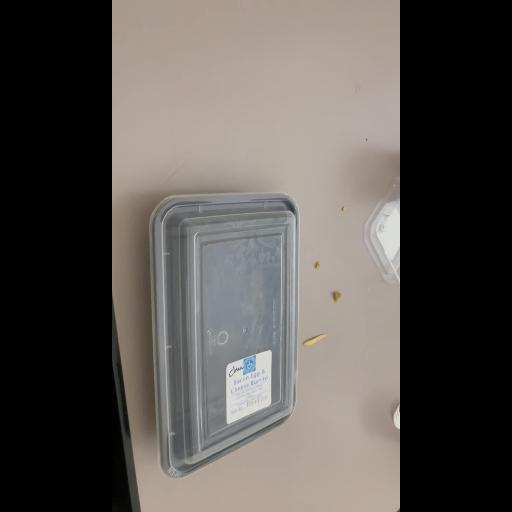rigid_plastic_container: (146, 189, 300, 479)
